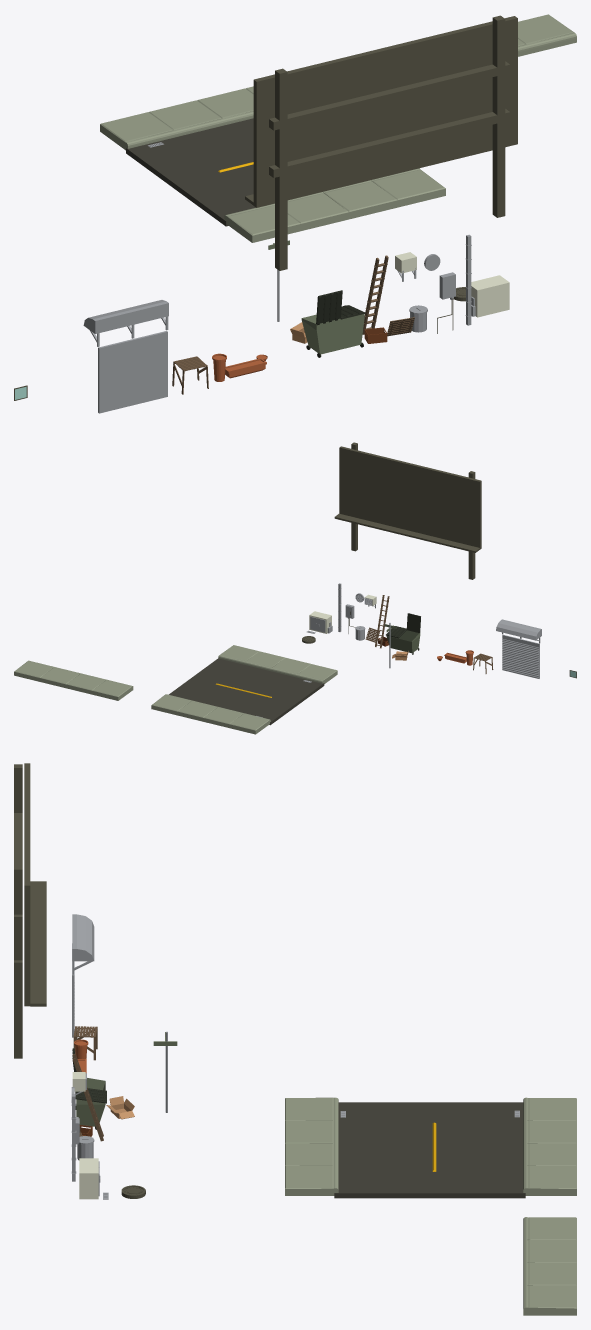
Rendered from Q2 Models1.fbx.
The picture shows the model from 3 angles, top to bottom: view 1: azimuth 30°, elevation 25°; view 2: azimuth 150°, elevation 25°; view 3: azimuth 270°, elevation 25°; orthographic projection. The views are drawn at different scales.
Visible parts, largest first — view 1: Billboard, Road, Garage Door, Dumpster, Sidewalk, Awning, Utility Box, Ladder, Pallet.007, Pipe, Fuse Box, Planter 1; view 2: Billboard, Road, Sidewalk, Garage Door, Dumpster, Awning, Utility Box; view 3: Road, Billboard, Sidewalk, Awning, Dumpster, Utility Box.
Boxes of the visible parts, x1,y1,x2,y2 form: Billboard: (245, 15, 517, 270); Road: (100, 86, 445, 242); Garage Door: (98, 331, 167, 413); Dumpster: (301, 290, 365, 357); Sidewalk: (518, 14, 576, 56); Awning: (83, 300, 168, 346); Utility Box: (471, 275, 509, 317); Ladder: (362, 255, 388, 334); Pallet.007: (172, 356, 208, 394); Pipe: (465, 234, 471, 325); Fuse Box: (437, 272, 455, 333); Planter 1: (225, 358, 266, 378); Billboard: (334, 442, 481, 579); Road: (151, 645, 337, 734); Sidewalk: (14, 660, 133, 700); Garage Door: (502, 634, 539, 678); Dumpster: (386, 613, 420, 654); Awning: (496, 619, 541, 643); Utility Box: (309, 611, 332, 633); Road: (285, 1097, 576, 1198); Billboard: (14, 763, 46, 1058); Sidewalk: (523, 1217, 576, 1315); Awning: (72, 914, 94, 974); Dumpster: (72, 1048, 106, 1129); Utility Box: (79, 1158, 100, 1199).
Bounding box in the file's own units: 10717 × 4262 × 6901.
